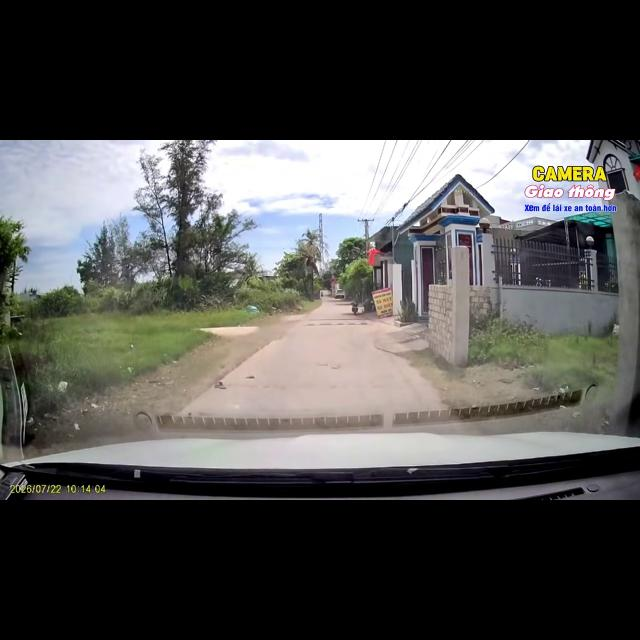car: (334, 289, 344, 298)
motorcycle: (351, 300, 358, 314)
